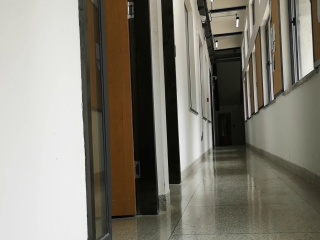room: (74, 1, 160, 228)
